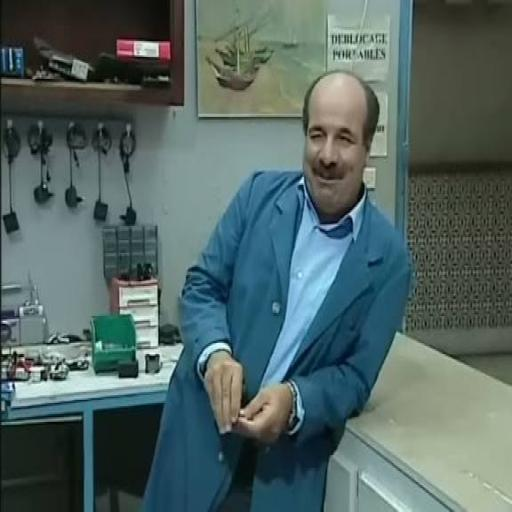beji_matrix: (303, 71, 379, 221)
